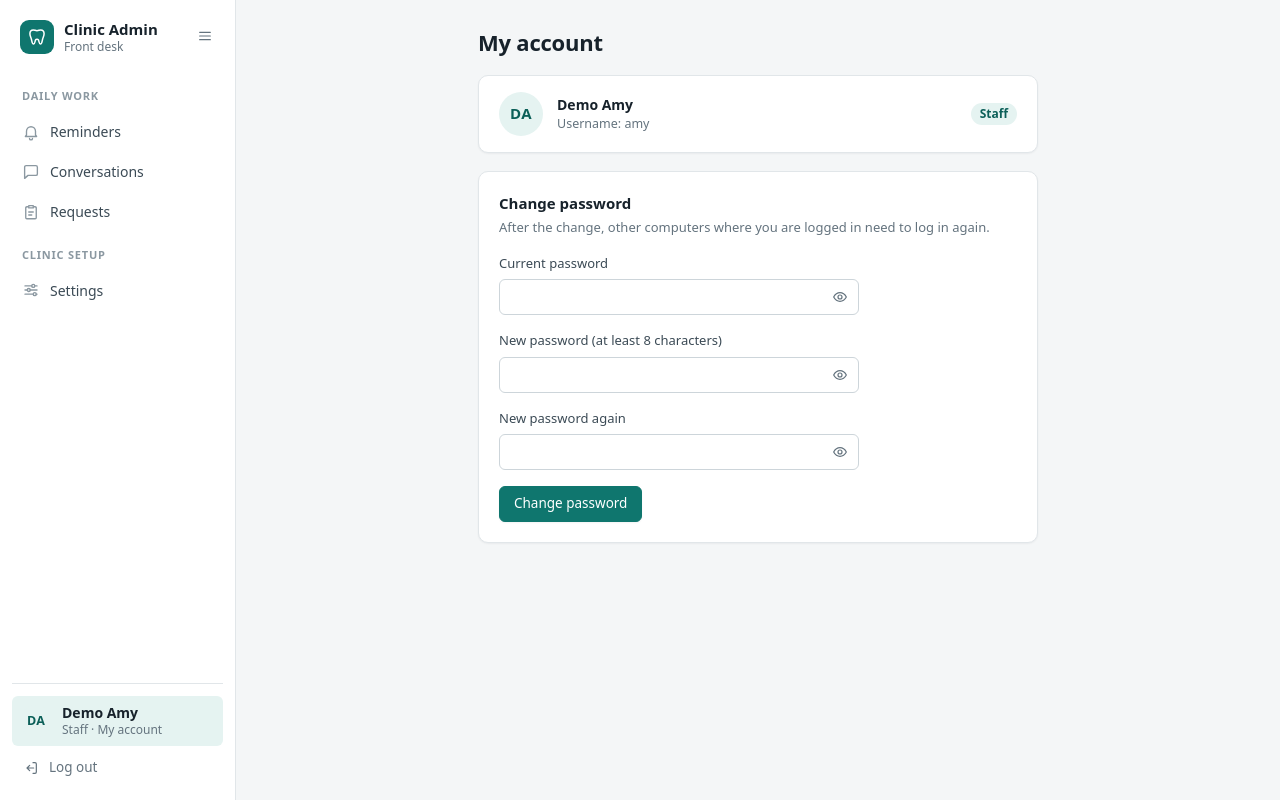
Test: menu (hamburger) › collapses the menu to icons on a computer screen and remembers it
This screenshot has width=1280, height=800.
Click the button named "Collapse menu".
click(205, 36)  # box [187,18,223,54]
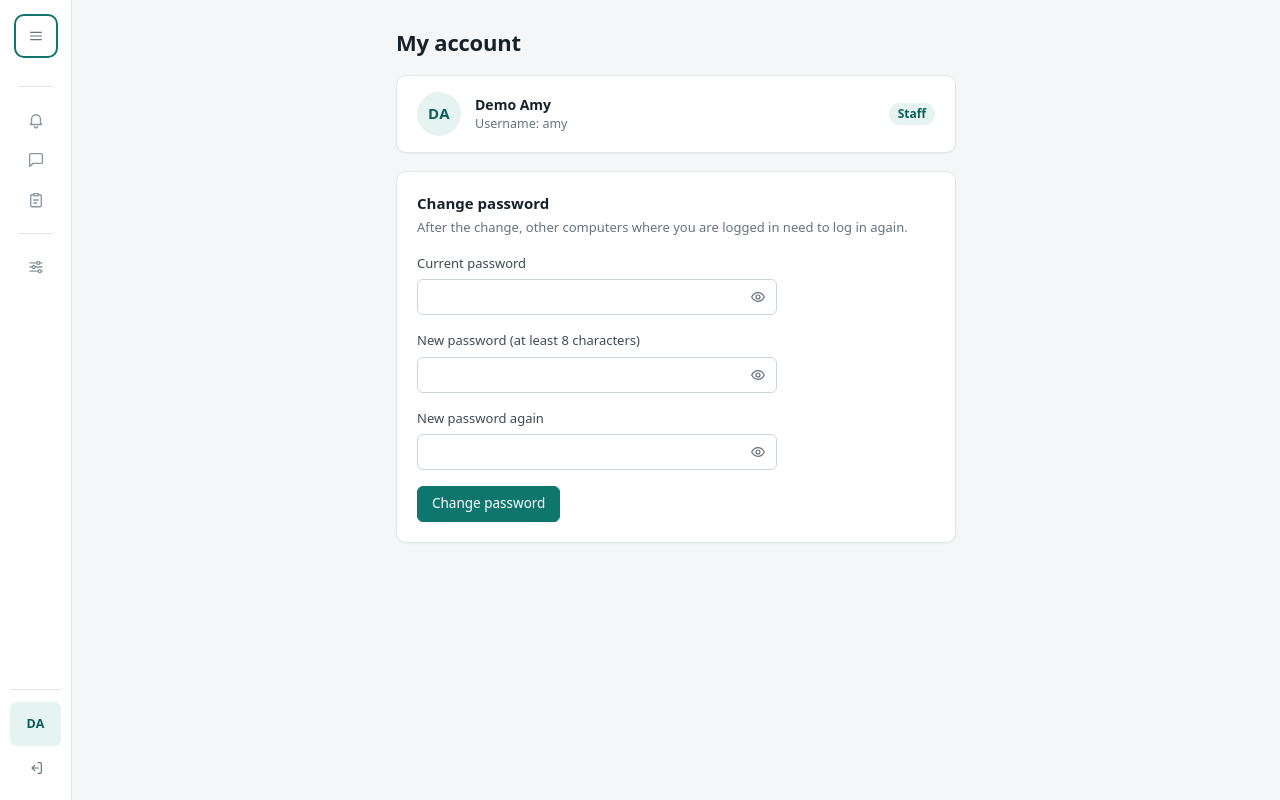
Check: the button named "Log out" is shown, box [10,750,61,786]
Check: the button named "Expand menu" is collapsed
Click the button named "Expand menu".
click(36, 36)  # box [18,18,54,54]
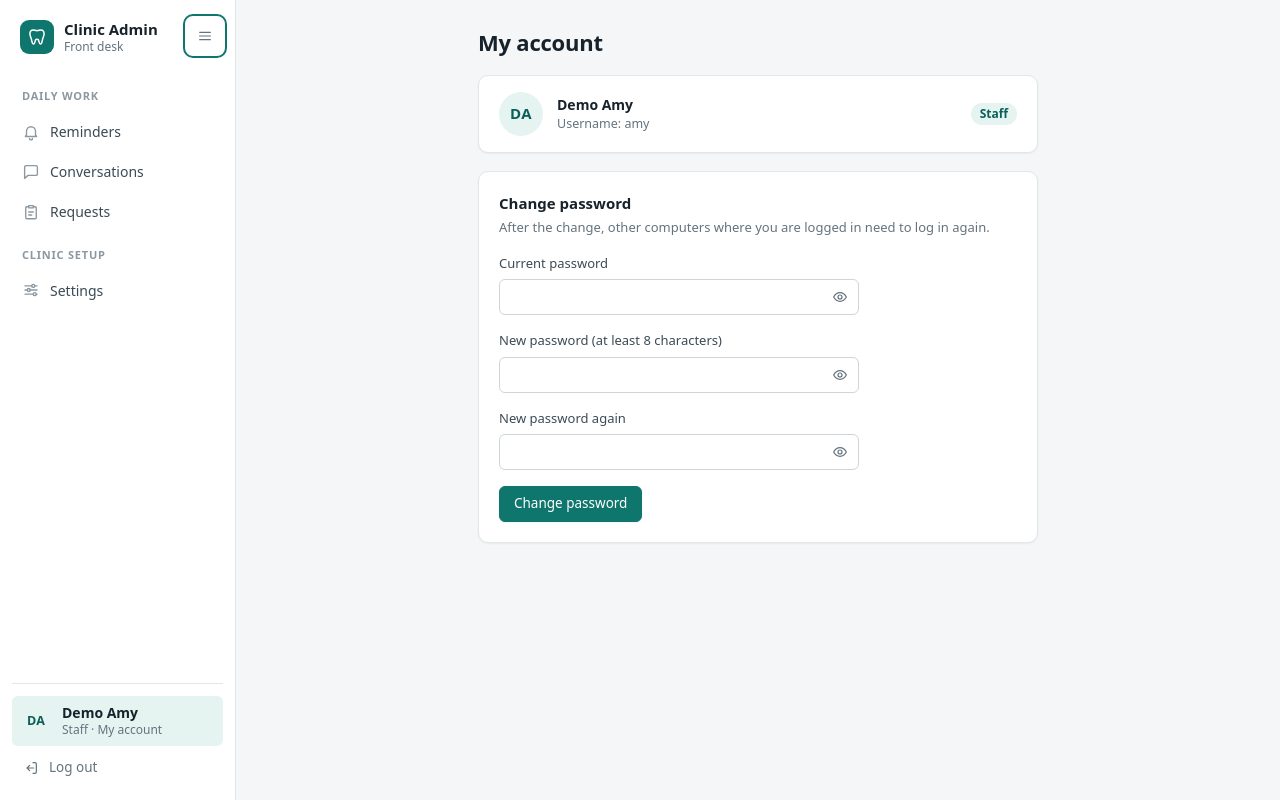
Check: the button named "Collapse menu" is expanded, box [187,18,223,54]
